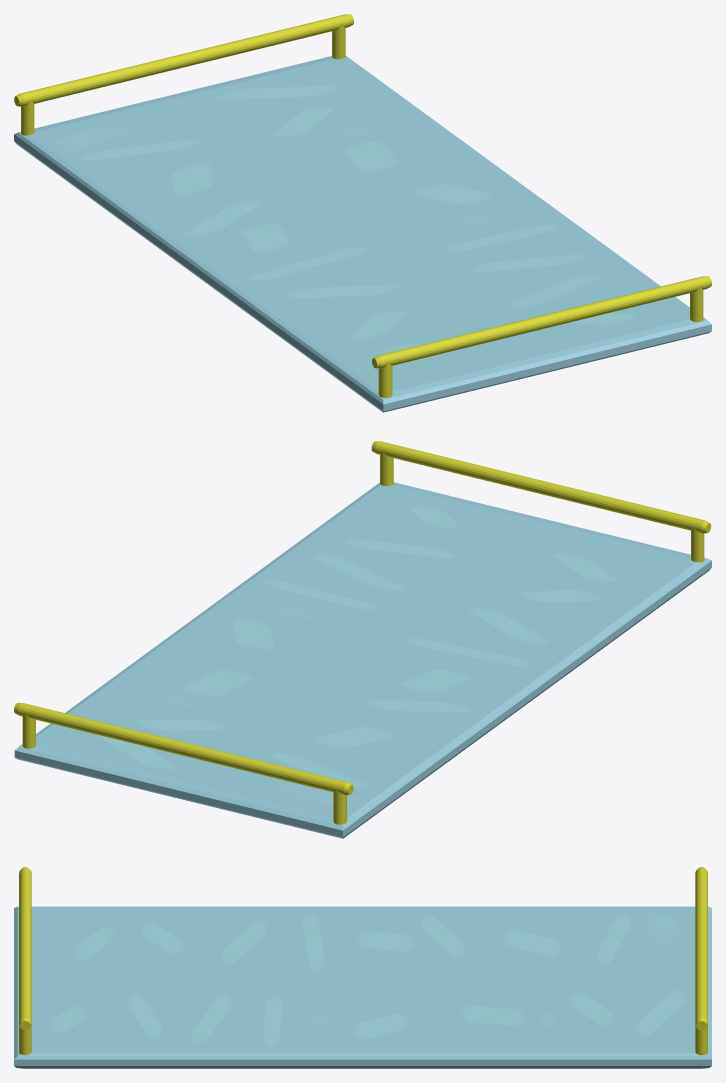
File: M_Starting Platform.fbx
3 views of the same model, one above another, from view 1: azimuth 30°, elevation 25°; view 2: azimuth 150°, elevation 25°; view 3: azimuth 270°, elevation 25° (orthographic). The views are drawn at different scales.
Parts seen in each view (by area): view 1: Cylinder.001; view 2: Cylinder.001; view 3: Cylinder.001.
Boxes of the visible parts, left/top/right/bottom form: Cylinder.001: left=14, top=14, right=711, bottom=412; Cylinder.001: left=14, top=441, right=711, bottom=838; Cylinder.001: left=14, top=867, right=711, bottom=1068.
Bounding box in the file's own units: 208 × 32.9 × 398.
